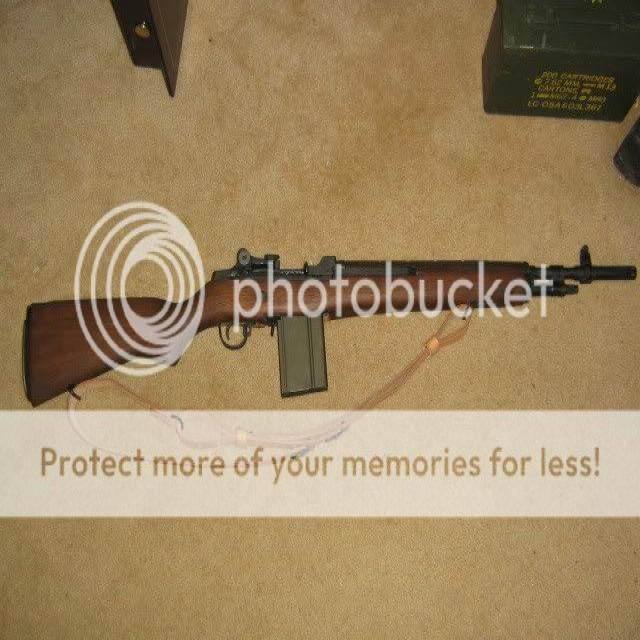Gun: (16, 245, 640, 411)
